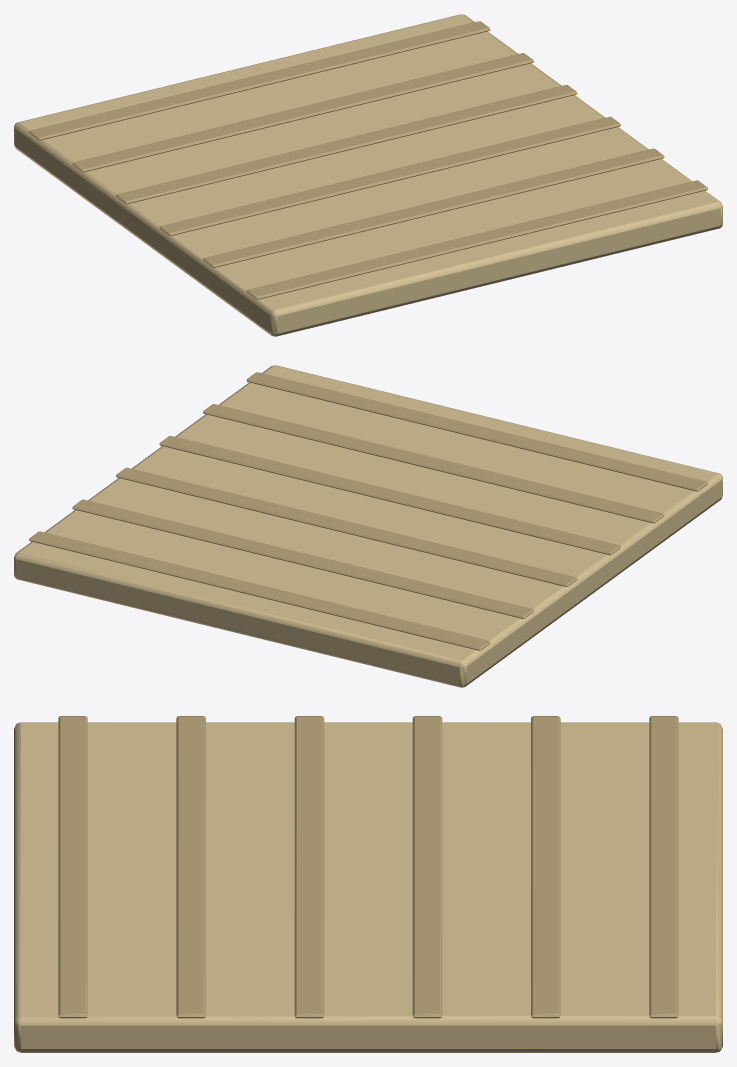
The model's file is straw_mat.glb.
3 views of the same model, one above another, from view 1: azimuth 30°, elevation 25°; view 2: azimuth 150°, elevation 25°; view 3: azimuth 270°, elevation 25° (orthographic). The views are drawn at different scales.
Visible parts, largest first — view 1: StrawMat; view 2: StrawMat; view 3: StrawMat.
Part boxes in pixels (bbox=[...]): StrawMat: bbox=[14, 14, 722, 336]; StrawMat: bbox=[14, 365, 722, 687]; StrawMat: bbox=[14, 716, 722, 1052].
Bounding box in the file's own units: 0.6 × 0.038 × 0.6.
